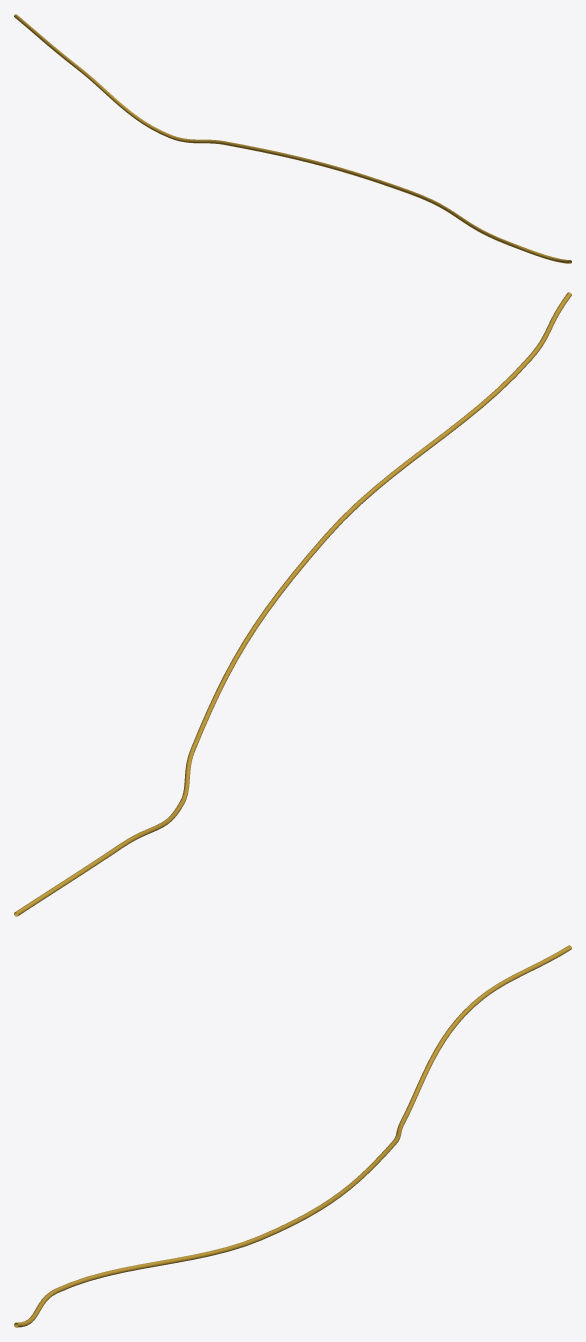
The picture shows the model from 3 angles, top to bottom: view 1: azimuth 30°, elevation 25°; view 2: azimuth 150°, elevation 25°; view 3: azimuth 330°, elevation 25°; orthographic projection. The views are drawn at different scales.
Parts seen in each view (by area): view 1: 左侧生殖股神经生殖支; view 2: 左侧生殖股神经生殖支; view 3: 左侧生殖股神经生殖支.
Part boxes in pixels (<box>): 左侧生殖股神经生殖支: <box>14,14,571,263</box>; 左侧生殖股神经生殖支: <box>14,292,571,916</box>; 左侧生殖股神经生殖支: <box>14,945,571,1327</box>.
Bounding box in the file's own units: 0.0421 × 0.0501 × 0.3778.
